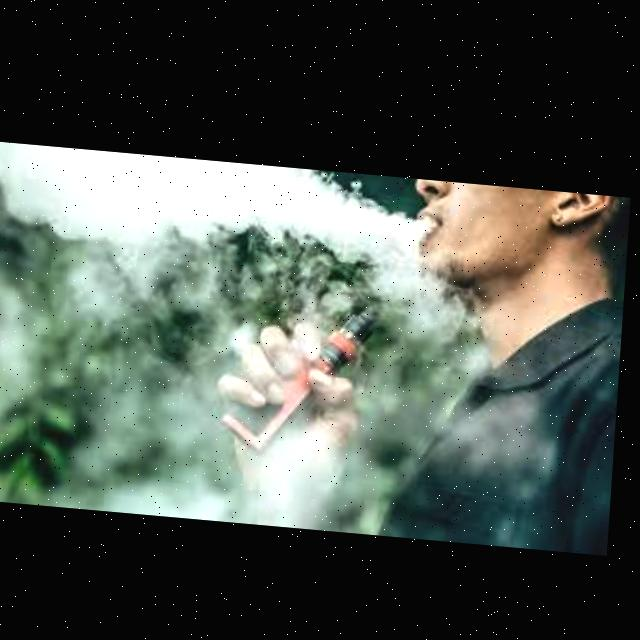vape: (219, 286, 394, 454)
